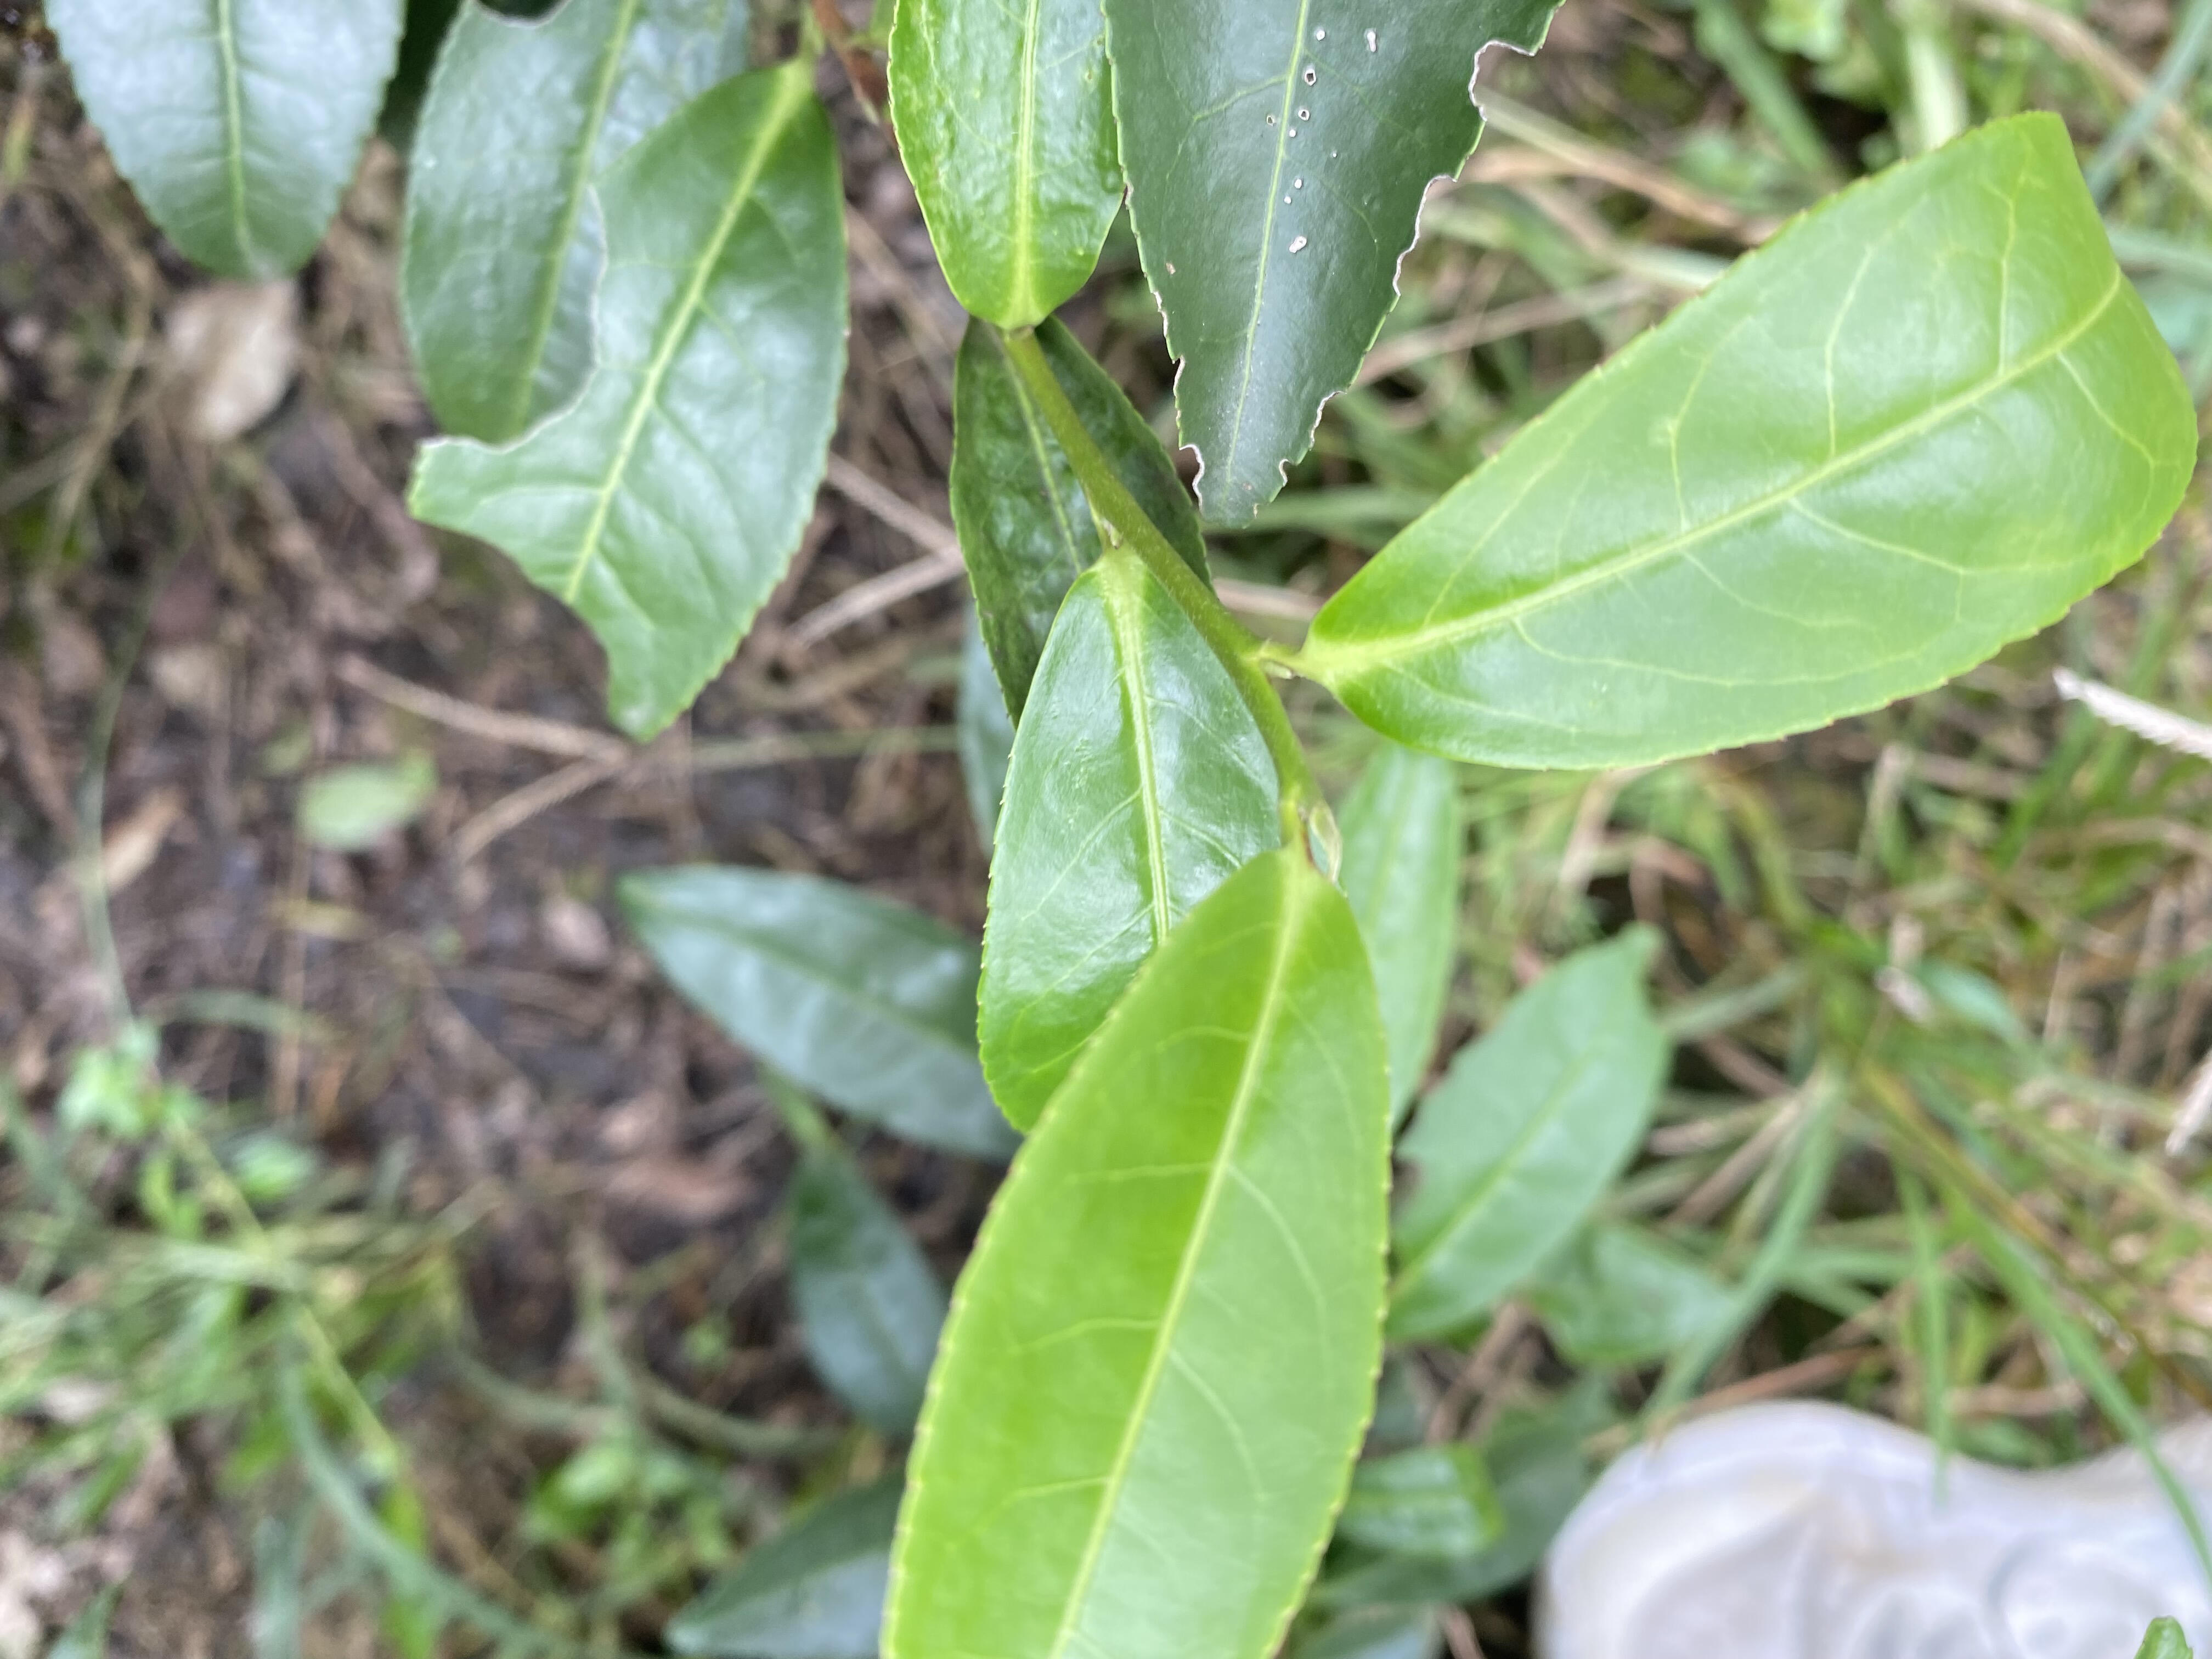chihuo_high: (399, 58, 855, 749), (1097, 3, 1569, 535)
healthy: (1310, 106, 2202, 774), (876, 854, 1393, 1659)
